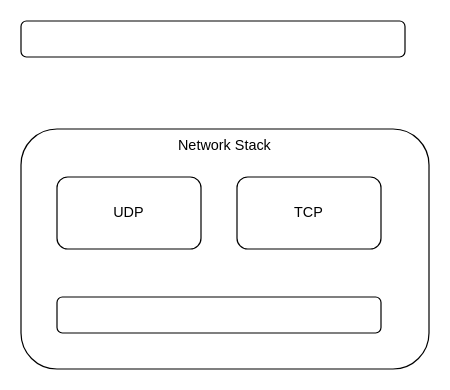
This 450x390 diagram has some shape labels left out. The centre of each missing label's shape, as x and y in pixels:
"Applicztion" belongs at point (212, 38).
"IP" belongs at point (218, 314).
